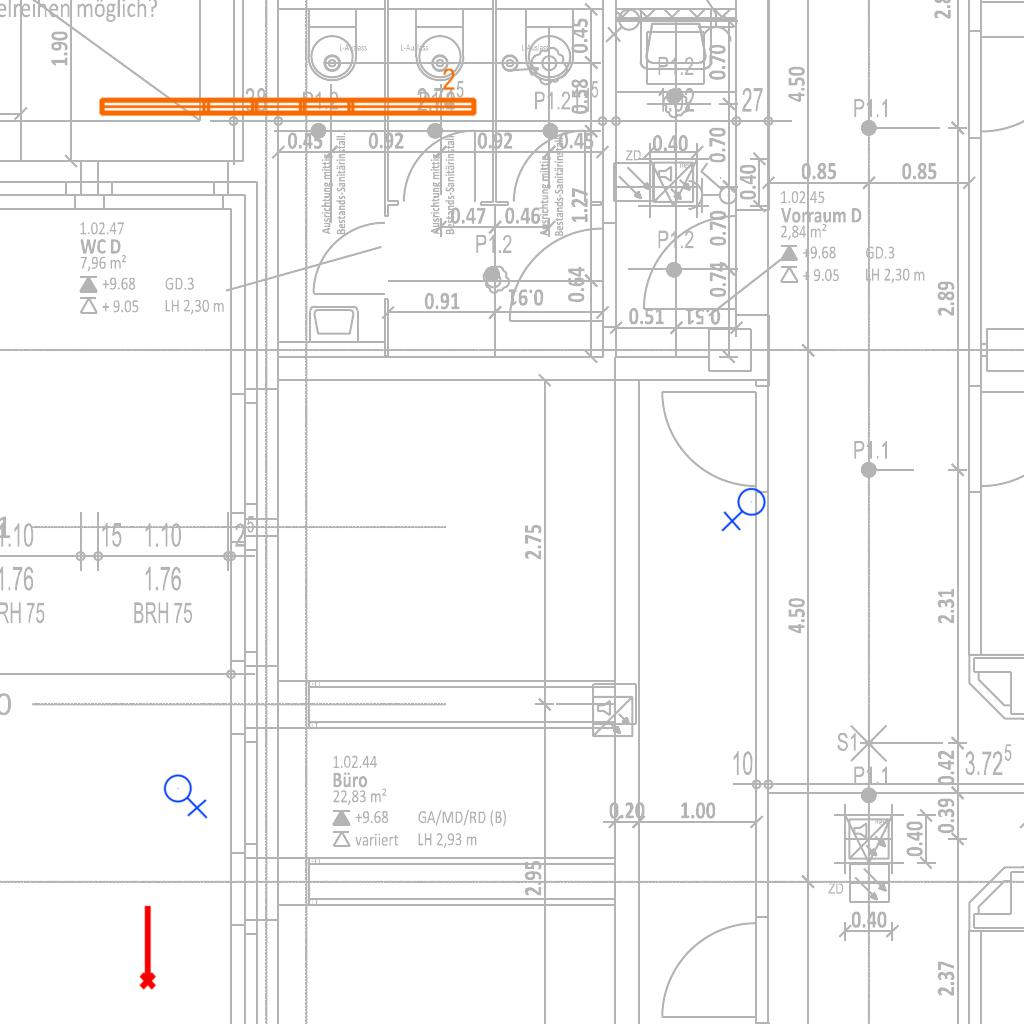ASR_Ansaugoeffnung: (135, 903, 158, 991)
Ambulanz_Pendelleuchte_LED: (94, 66, 481, 122)
Elektroanschluss_allgemein_230V_Geraeteanschlussdose_230V: (163, 770, 210, 819), (721, 487, 770, 534)
